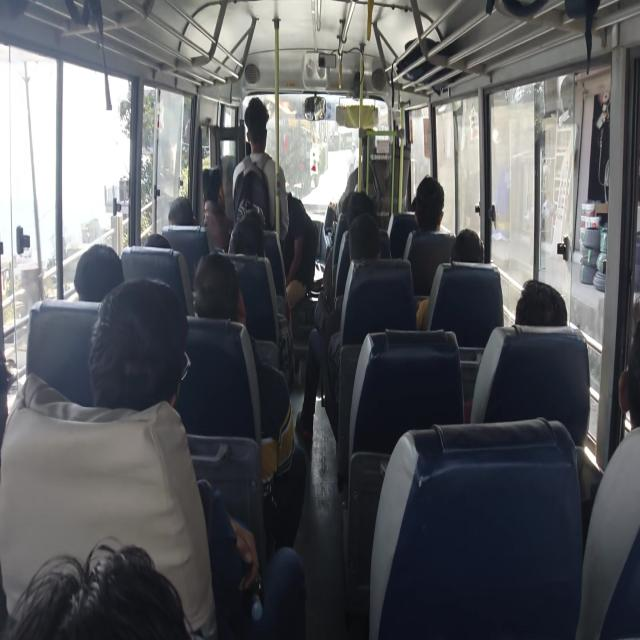person: (28, 498, 201, 640), (95, 303, 169, 430), (198, 256, 264, 341), (272, 177, 312, 307), (612, 328, 640, 442), (78, 230, 122, 298), (340, 194, 374, 277), (511, 276, 559, 334), (241, 204, 271, 278), (450, 217, 486, 265), (417, 168, 447, 224), (138, 222, 172, 270), (200, 170, 230, 223), (242, 98, 270, 150), (173, 197, 204, 243), (350, 230, 377, 254), (410, 191, 426, 211), (340, 195, 356, 207)
